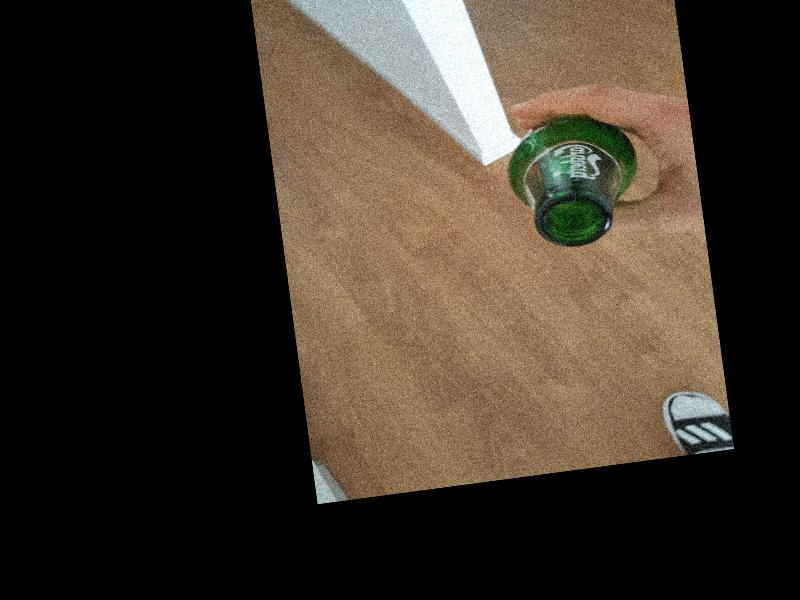Beer: (501, 108, 649, 254)
